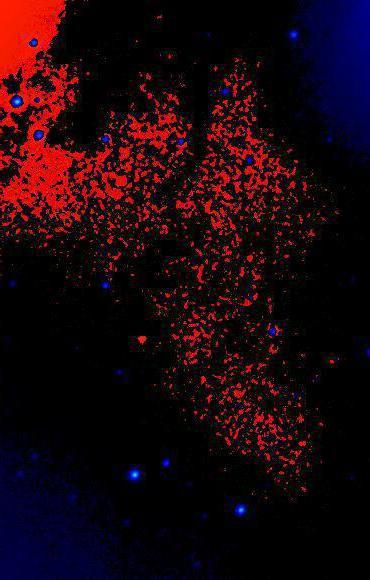star: (127, 326, 157, 356)
